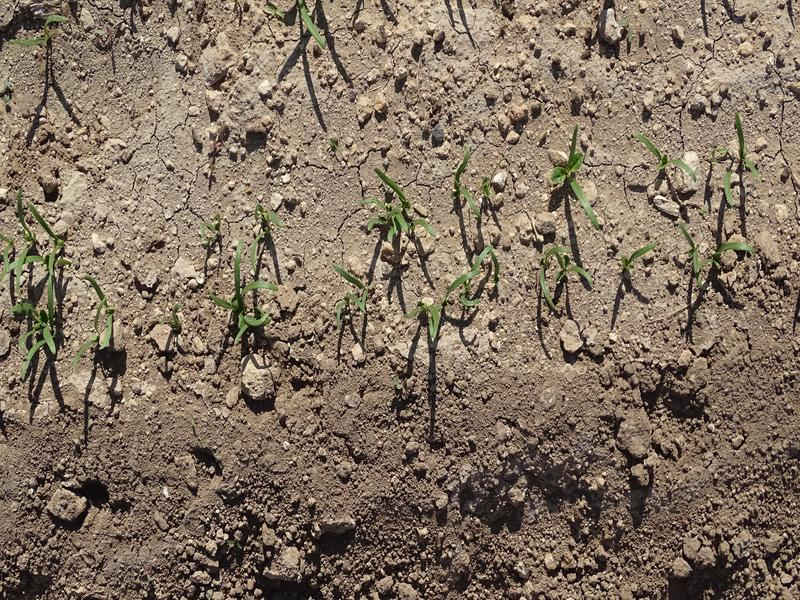Espinaca: (5, 202, 65, 372), (415, 241, 498, 339), (217, 220, 284, 340), (364, 175, 444, 243), (536, 244, 598, 311), (554, 141, 602, 227), (71, 280, 111, 370), (638, 133, 698, 186), (722, 120, 761, 198), (450, 150, 496, 215), (333, 266, 369, 321), (676, 225, 703, 272), (622, 241, 658, 265), (716, 239, 752, 257)
